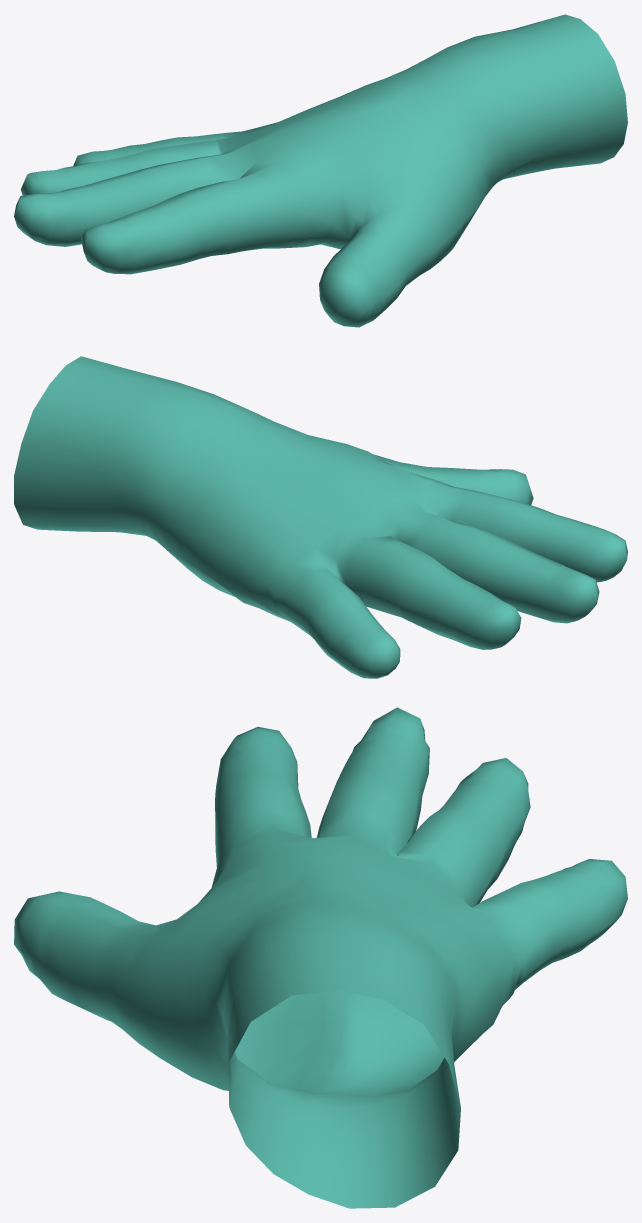
Rendered from glove_r_basic_model.fbx.
3 renders of one model, top to bottom at view 1: azimuth 30°, elevation 25°; view 2: azimuth 150°, elevation 25°; view 3: azimuth 270°, elevation 25°, orthographic. The views are drawn at different scales.
Parts seen in each view (by area): view 1: glove_r_right; view 2: glove_r_right; view 3: glove_r_right.
Part boxes in pixels (bbox=[...]): glove_r_right: bbox=[14, 14, 627, 327]; glove_r_right: bbox=[14, 356, 627, 678]; glove_r_right: bbox=[14, 707, 627, 1208].
Size of the model in its own units: 53.59 by 14.93 by 36.04.
